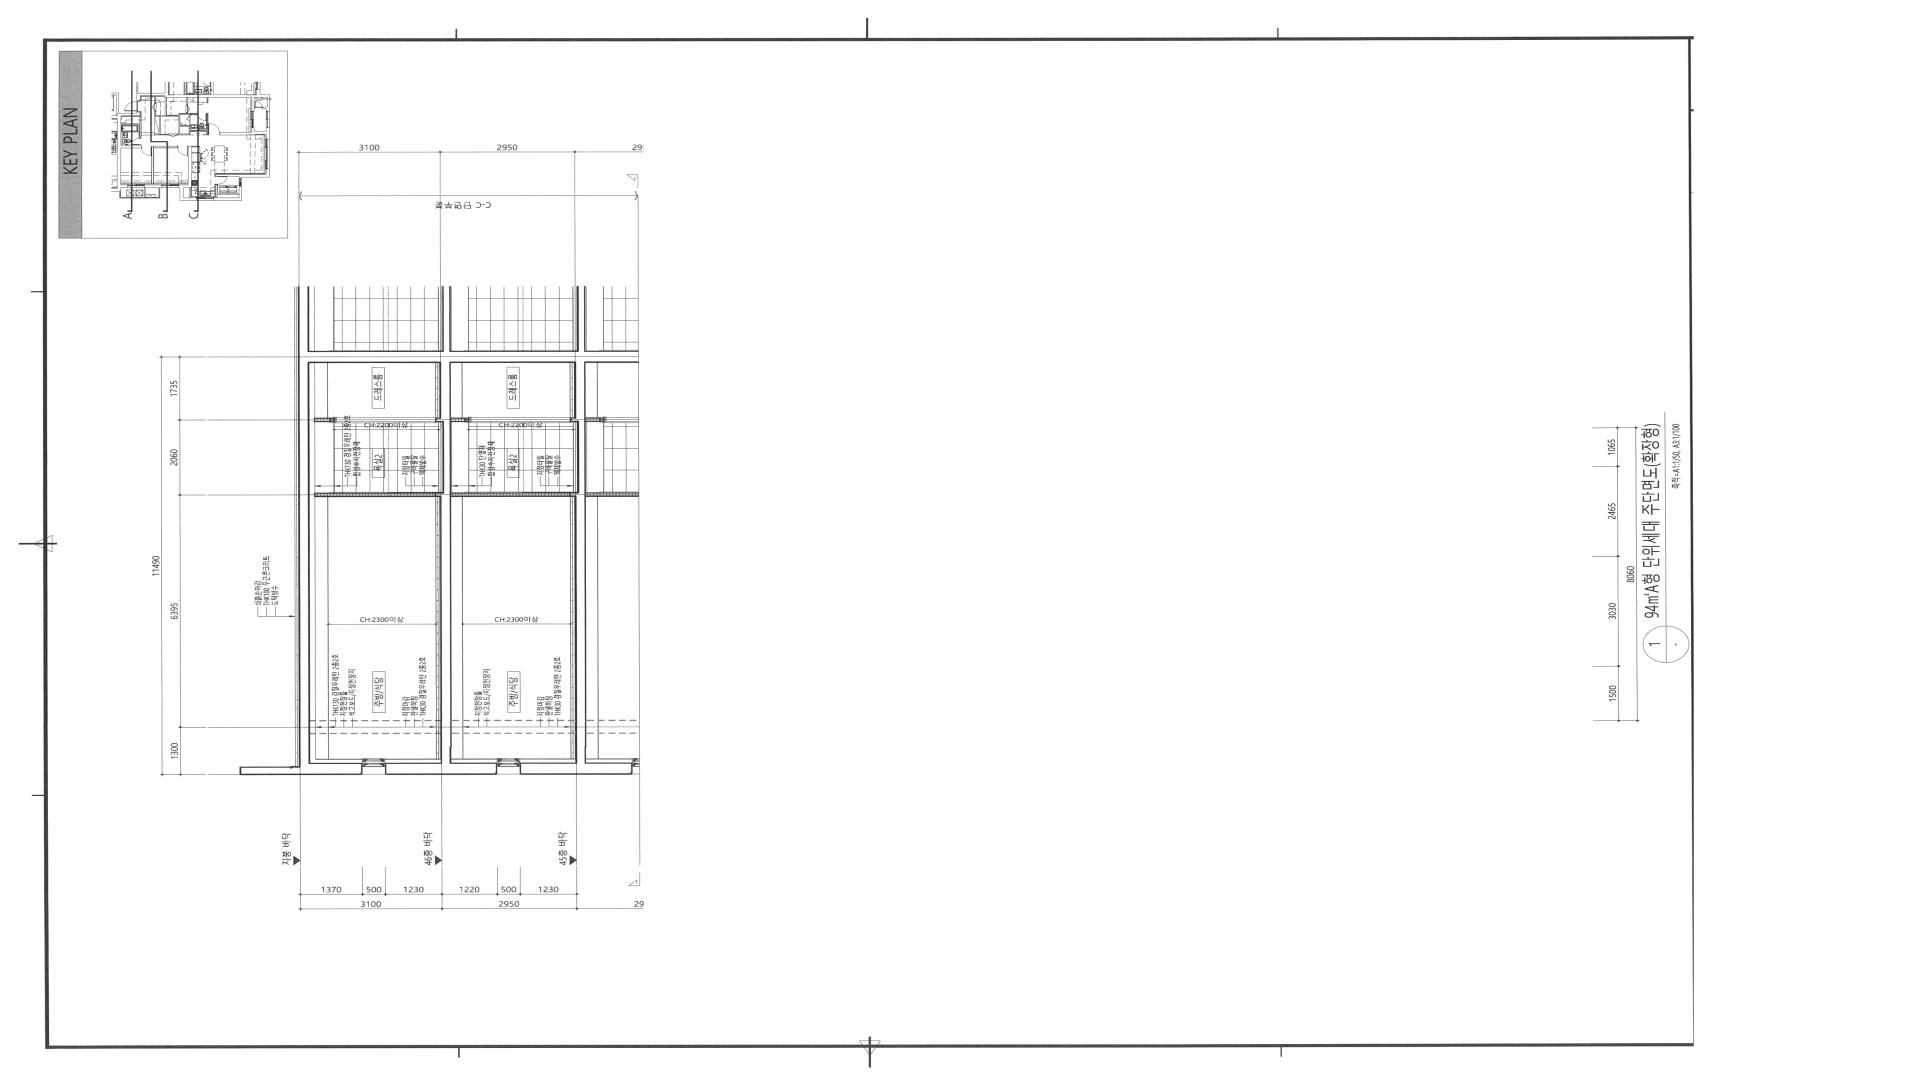door: (334, 417, 435, 423), (468, 417, 570, 423)
wall: (240, 351, 638, 775), (310, 363, 363, 762), (315, 492, 435, 497), (451, 492, 570, 497), (520, 758, 576, 762), (451, 758, 497, 762), (385, 760, 440, 762), (315, 418, 334, 422), (451, 418, 468, 422)
window: (363, 758, 385, 775), (497, 758, 520, 775)
